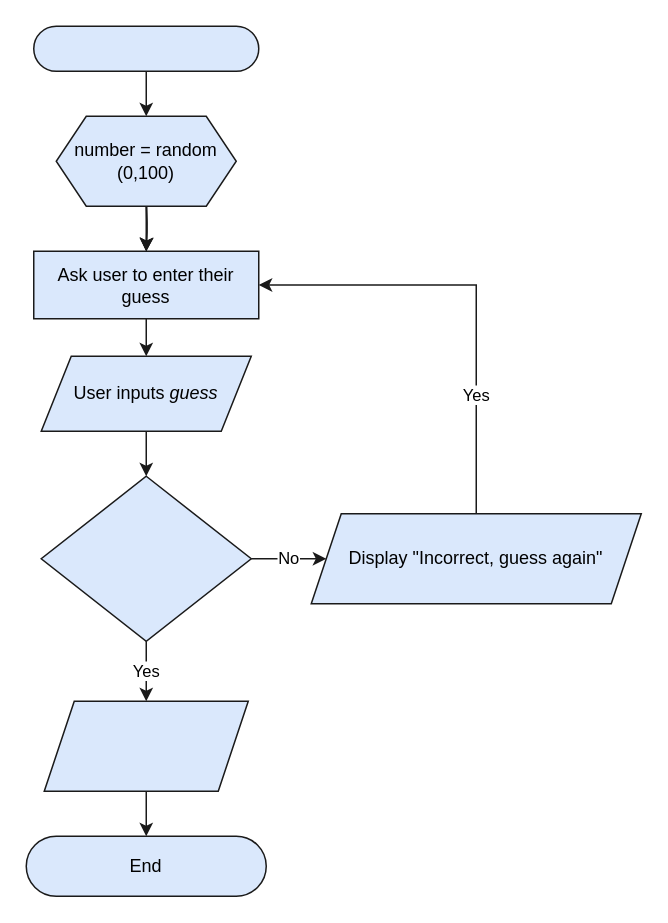
This 668x923 diagram has some shape labels left out. Each missing label, with the centre of its shape:
Display "Correct": [145,745]
IF number == guess: [145,558]
Start: [145,48]
